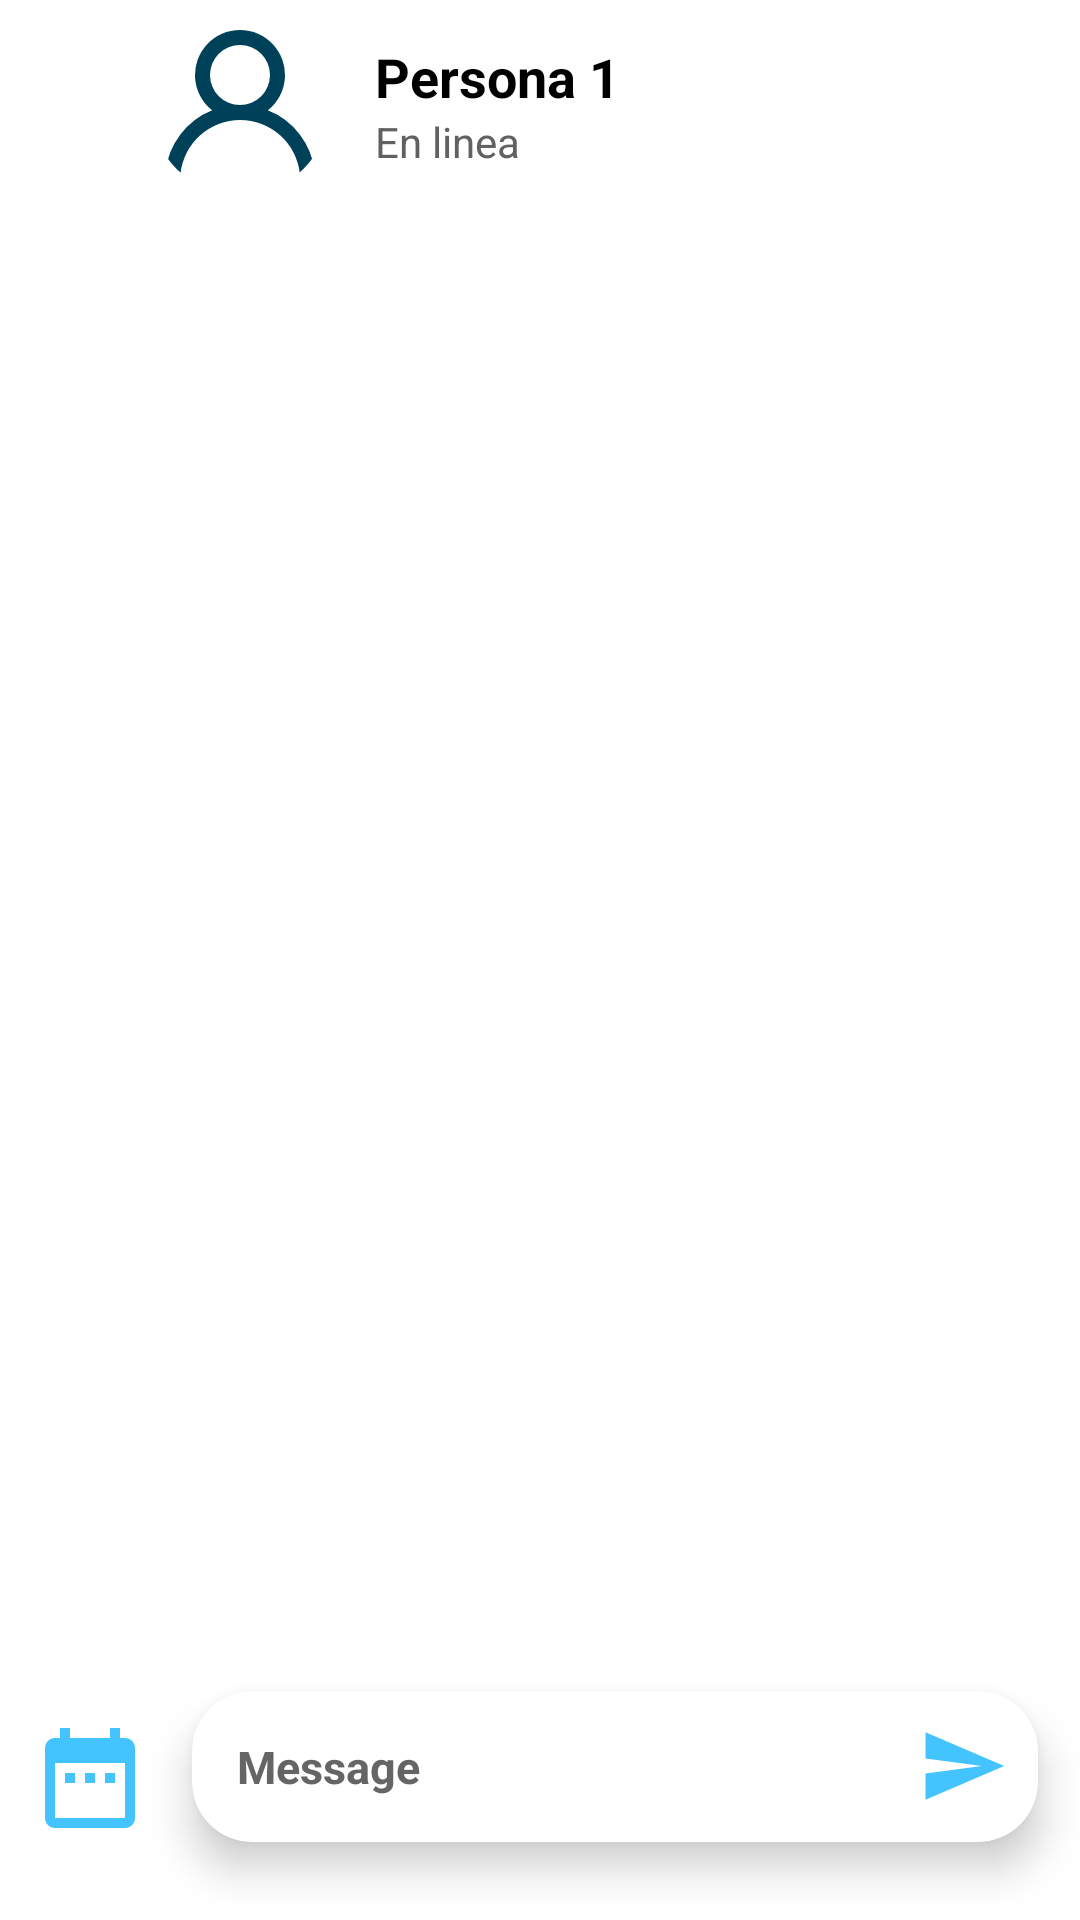

Where to tap for icons on this 1080 × 1920 app screen, as (x,y):
cuenta: (240,101)
date range: (90,1778)
send: (964,1766)
